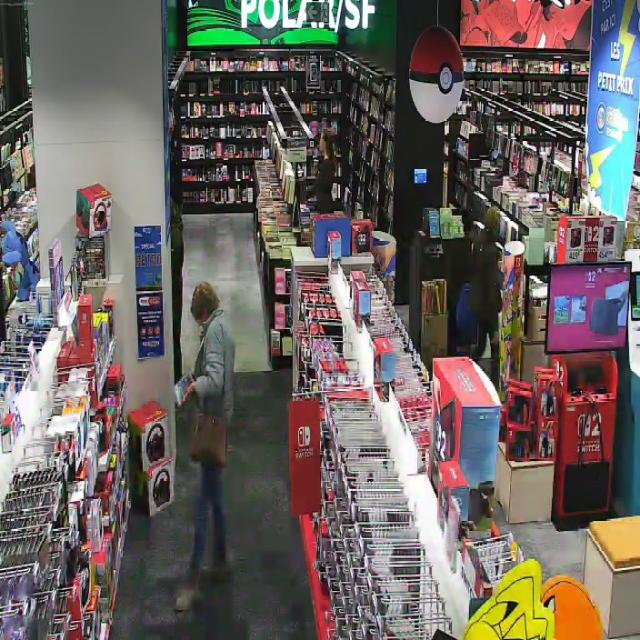article: (175, 372, 194, 404)
bags: (190, 413, 228, 466)
hands: (184, 383, 196, 403)
person: (176, 464, 228, 611), (470, 209, 502, 360), (308, 129, 335, 214)
